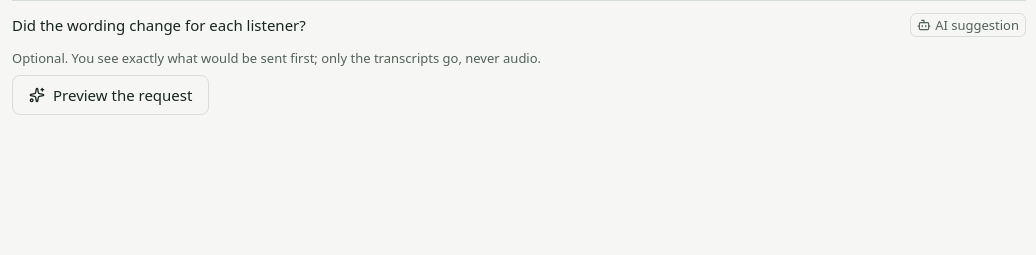
Test: the optional AI comparison (10.5, 10.9) › sends nothing until Send, then shows notes that quote your words as an AI suggestion
Step 1. Click the button "Preview the request" → point(111, 95), box left=12, top=75, right=209, bottom=115
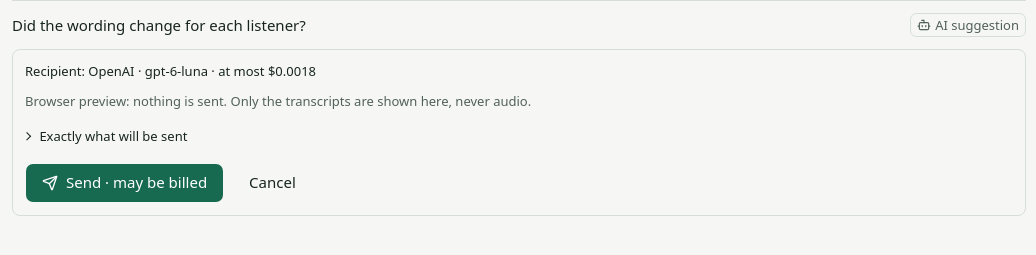
Result: the heading "Exactly what will be sent" is shown at left=25, top=123, right=187, bottom=151
Step 2. Click the button "Send · may be billed" → point(125, 183), box left=25, top=163, right=224, bottom=203
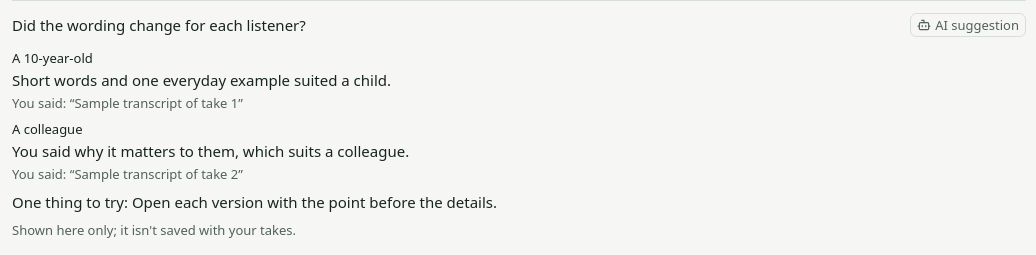
Expected: the text "AI suggestion" is shown, left=910, top=13, right=1026, bottom=37
Result: the text "One thing to try:" is shown at left=12, top=192, right=128, bottom=212
Result: the text "You said: Sample transcript of take 1" is shown at left=12, top=94, right=238, bottom=112
